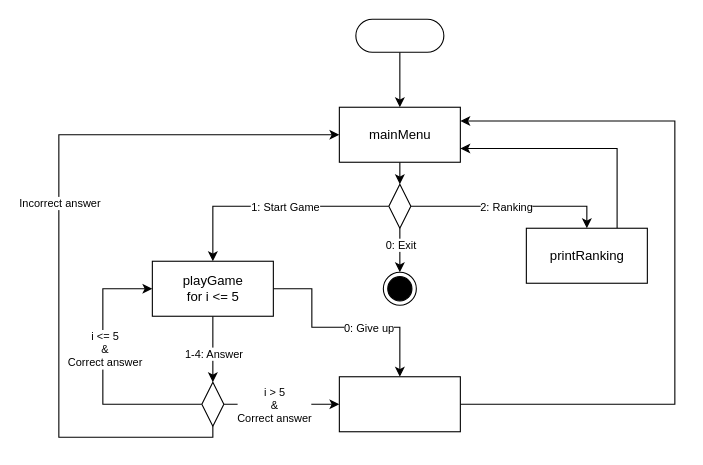
The diagram is 703 pixels wide and 465 high, and some of its shapes have lost their labels. Here are the shapes that lost their labels. From the top down, the centre of each, then its label:
At pixel 399 35: "Inicio".
At pixel 399 404: "savePlayer".
